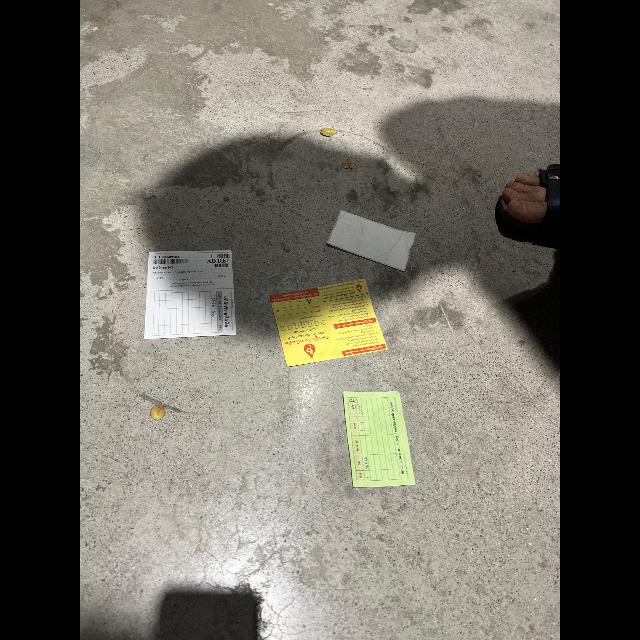scrap_paper: (268, 276, 392, 372), (138, 234, 242, 340), (342, 392, 413, 496), (323, 205, 419, 279)
